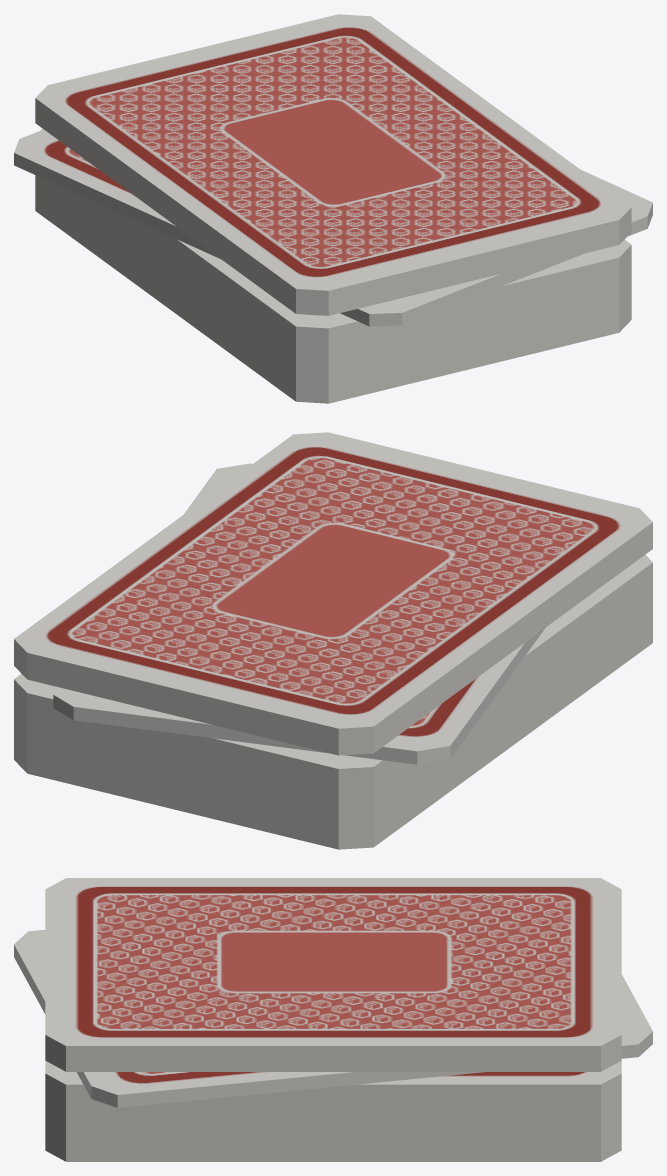
The model's file is SM_Item_Card_Deck_01.fbx.
3 renders of one model, top to bottom at view 1: azimuth 30°, elevation 25°; view 2: azimuth 150°, elevation 25°; view 3: azimuth 270°, elevation 25°, orthographic. The views are drawn at different scales.
Parts seen in each view (by area): view 1: SM_Item_Card_Deck_01; view 2: SM_Item_Card_Deck_01; view 3: SM_Item_Card_Deck_01.
Part boxes in pixels (x1,y1,x2,y2): SM_Item_Card_Deck_01: (14, 14, 652, 403); SM_Item_Card_Deck_01: (14, 432, 652, 849); SM_Item_Card_Deck_01: (14, 878, 652, 1161).
Size of the model in its own units: 14.3 by 3.6 by 18.01.
